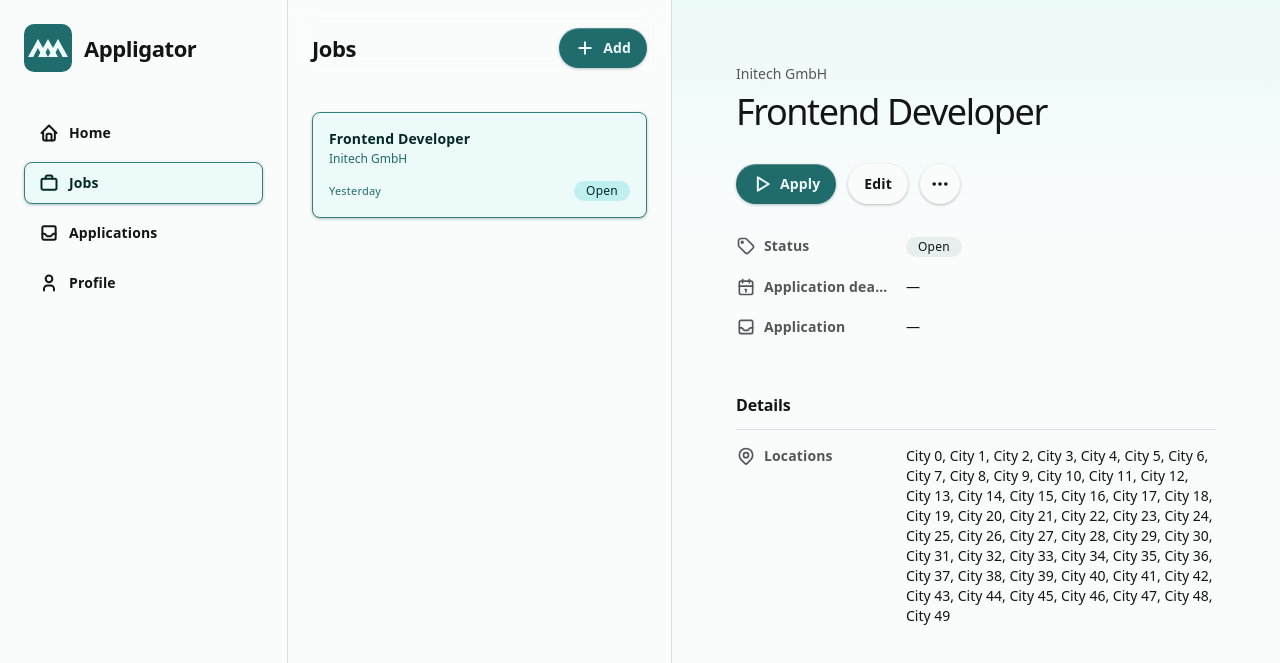
offers no further location once a job has the most locations it allows
The width and height of the screenshot is (1280, 663).
Click the button "Edit" at (878, 184), box [848,164,908,204]
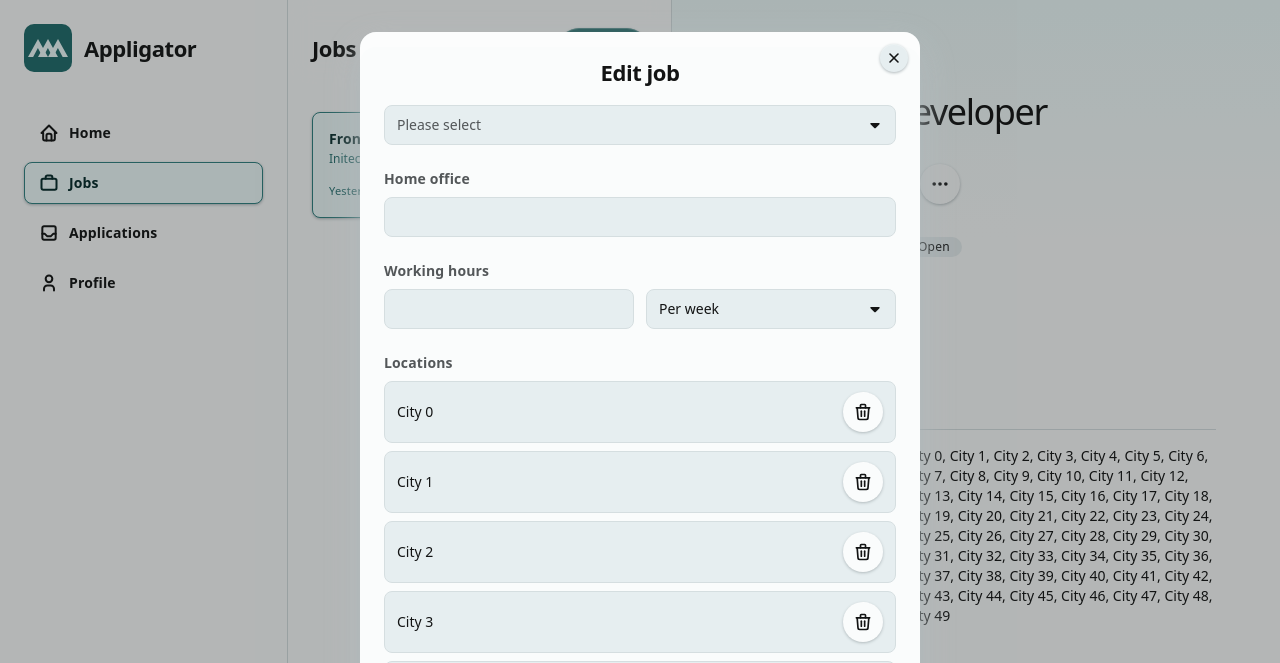
Expected: the button "City 0" is shown, [385,382,835,442]
